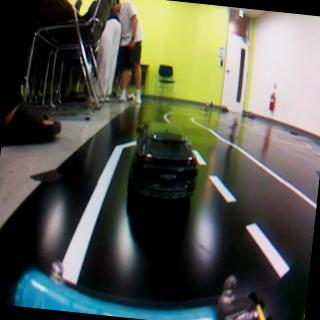car: (122, 117, 203, 205)
